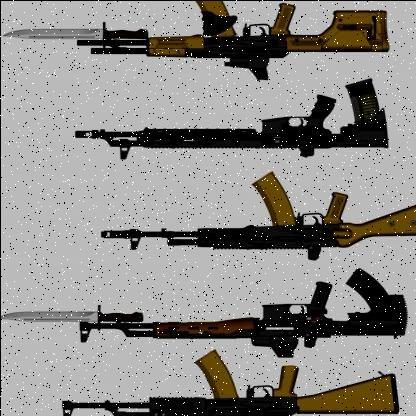rifle: (100, 175, 416, 269), (70, 77, 390, 163), (99, 266, 412, 350), (60, 346, 405, 416), (93, 0, 398, 69)
